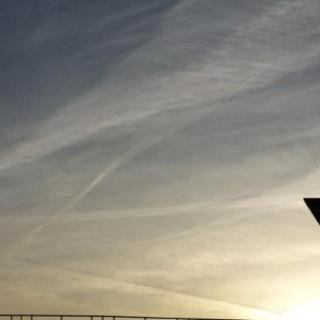Contrails: (0, 0, 312, 320)
